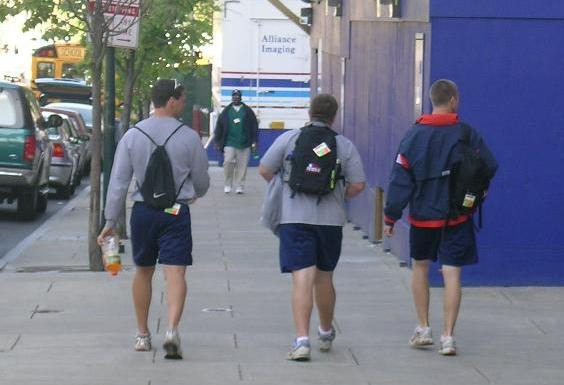deflection: (115, 79, 211, 166)
